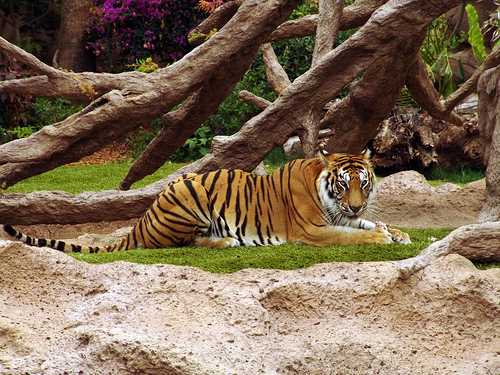Tigre: (88, 156, 410, 271)
